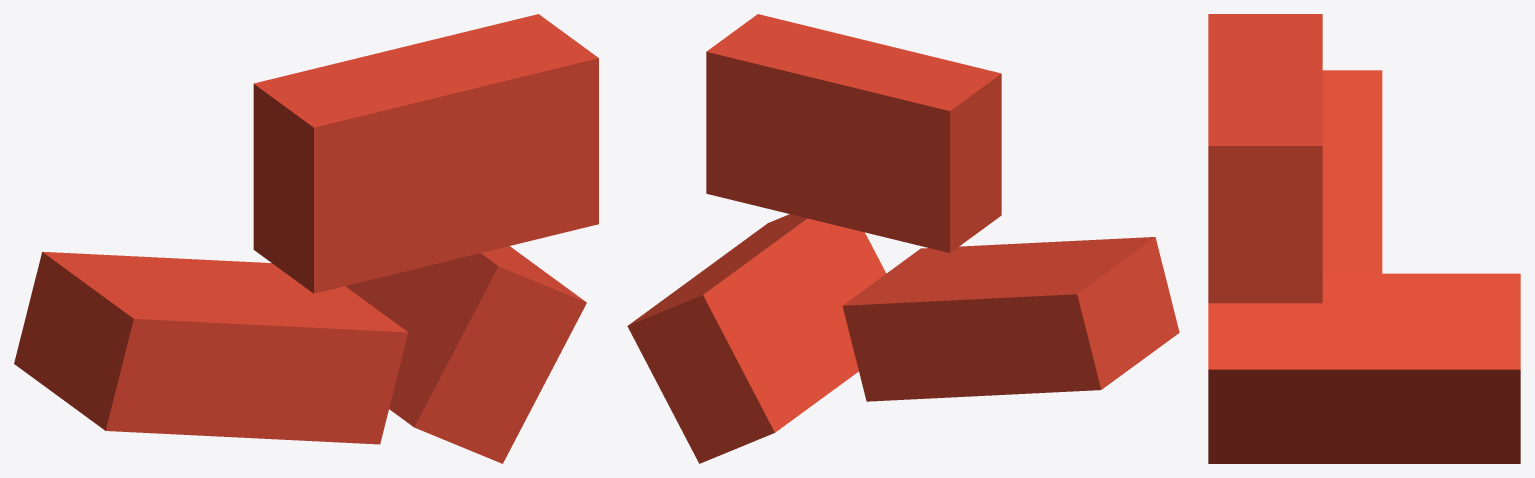
File: SM_ResourceBricks.FBX
The picture shows the model from 3 angles, left to right: view 1: azimuth 30°, elevation 25°; view 2: azimuth 150°, elevation 25°; view 3: azimuth 270°, elevation 25°; orthographic projection. The views are drawn at different scales.
Visible parts, largest first — view 1: SM_Bricks; view 2: SM_Bricks; view 3: SM_Bricks.
Boxes of the visible parts, x1,y1,x2,y2 form: SM_Bricks: (14, 14, 598, 463); SM_Bricks: (627, 14, 1179, 463); SM_Bricks: (1208, 14, 1520, 463).
Size of the model in its own units: 18.09 by 10.46 by 13.4.
